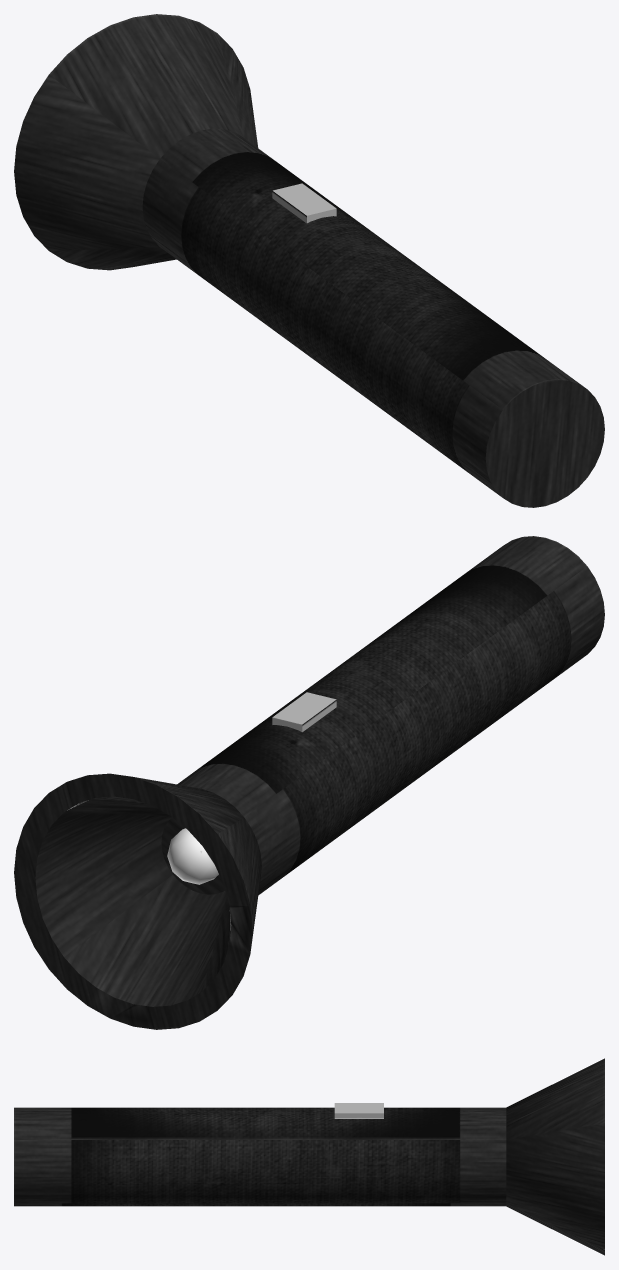
The model's file is flashlight.fbx.
3 renders of one model, top to bottom at view 1: azimuth 30°, elevation 25°; view 2: azimuth 150°, elevation 25°; view 3: azimuth 270°, elevation 25°, orthographic. The views are drawn at different scales.
Parts seen in each view (by area): view 1: Cylinder; view 2: Cylinder; view 3: Cylinder.
Part boxes in pixels (x1=…): Cylinder: x1=14, y1=14, x2=604, y2=507; Cylinder: x1=14, y1=536, x2=604, y2=1029; Cylinder: x1=14, y1=1058, x2=604, y2=1255.
Size of the model in its own units: 0.4 by 0.4 by 1.2.
1 material, 1 textured.
